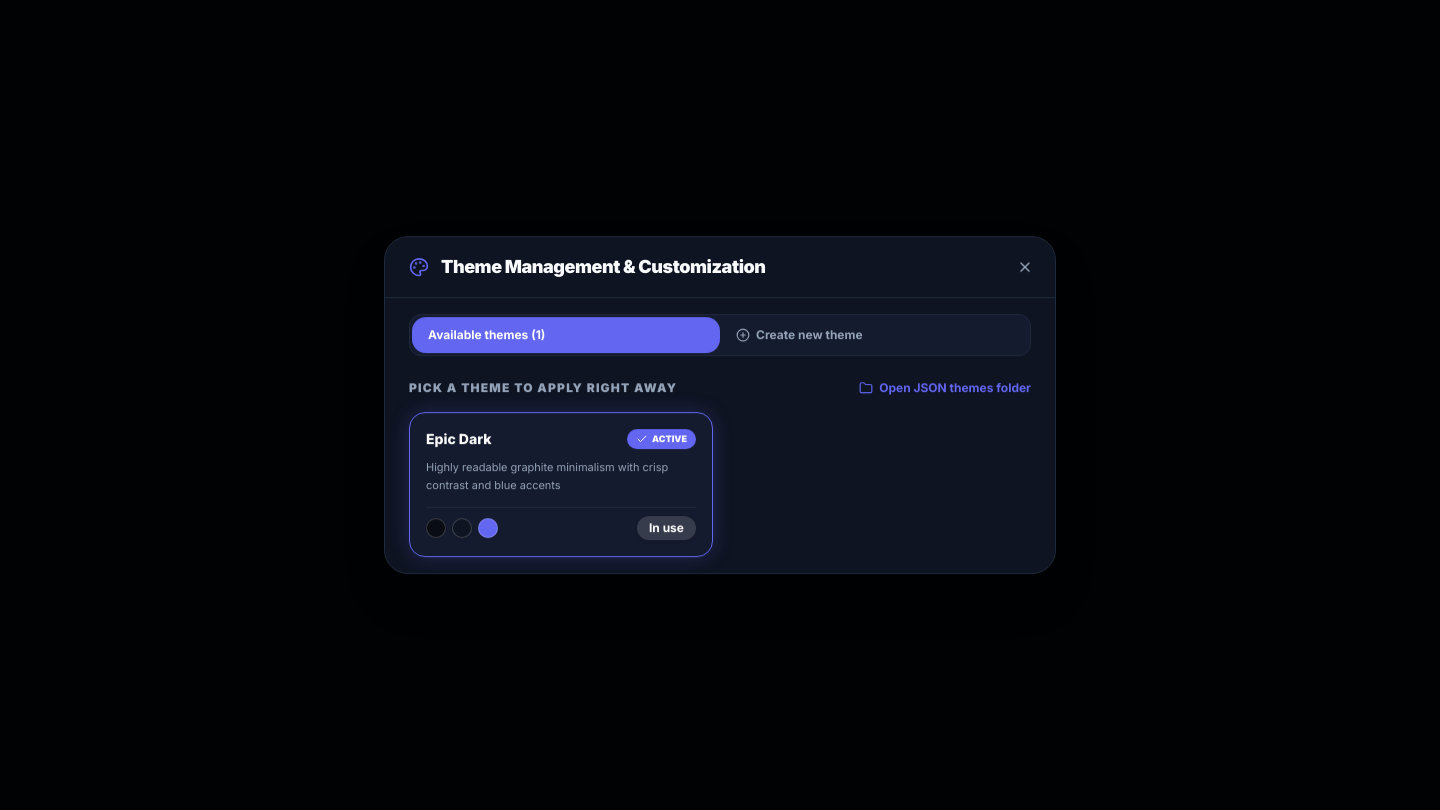
Test case: Phase 5 Extended Modals Migration › renders ThemeModal with Tabs and opens custom editor on tab switch
Later steps or results of the test are not shown.
Expected: the text "Epic Dark" is shown, left=426, top=429, right=492, bottom=449
Press the mouse on the tab "Create new theme": (809, 335) left=722, top=319, right=1026, bottom=351
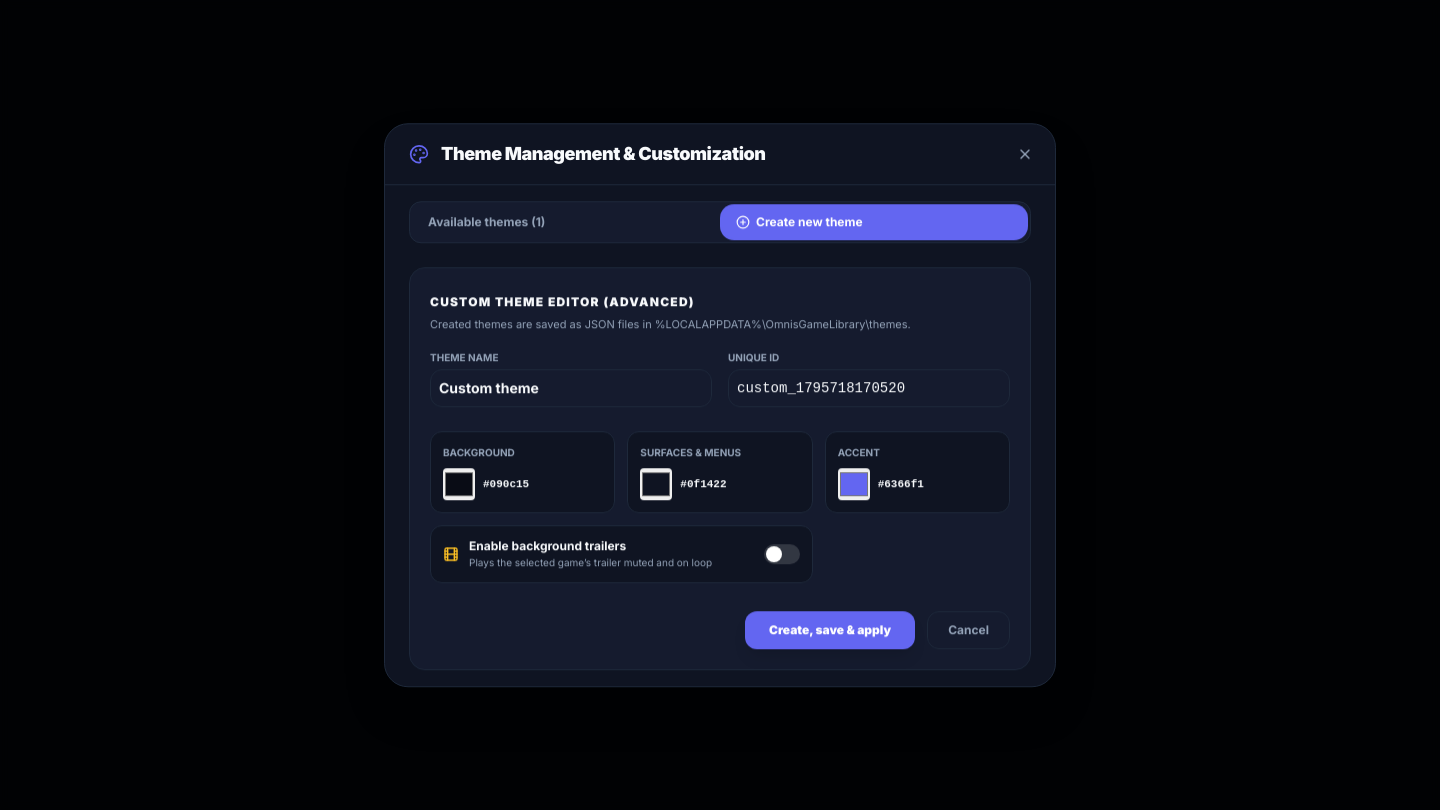
Click the tab "Create new theme": (809, 222) left=722, top=206, right=1026, bottom=238
Expected: the field below "Theme name" is shown, left=430, top=369, right=712, bottom=407
